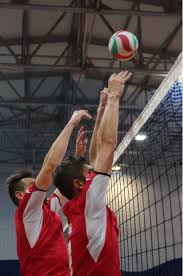ball: (107, 29, 139, 60)
